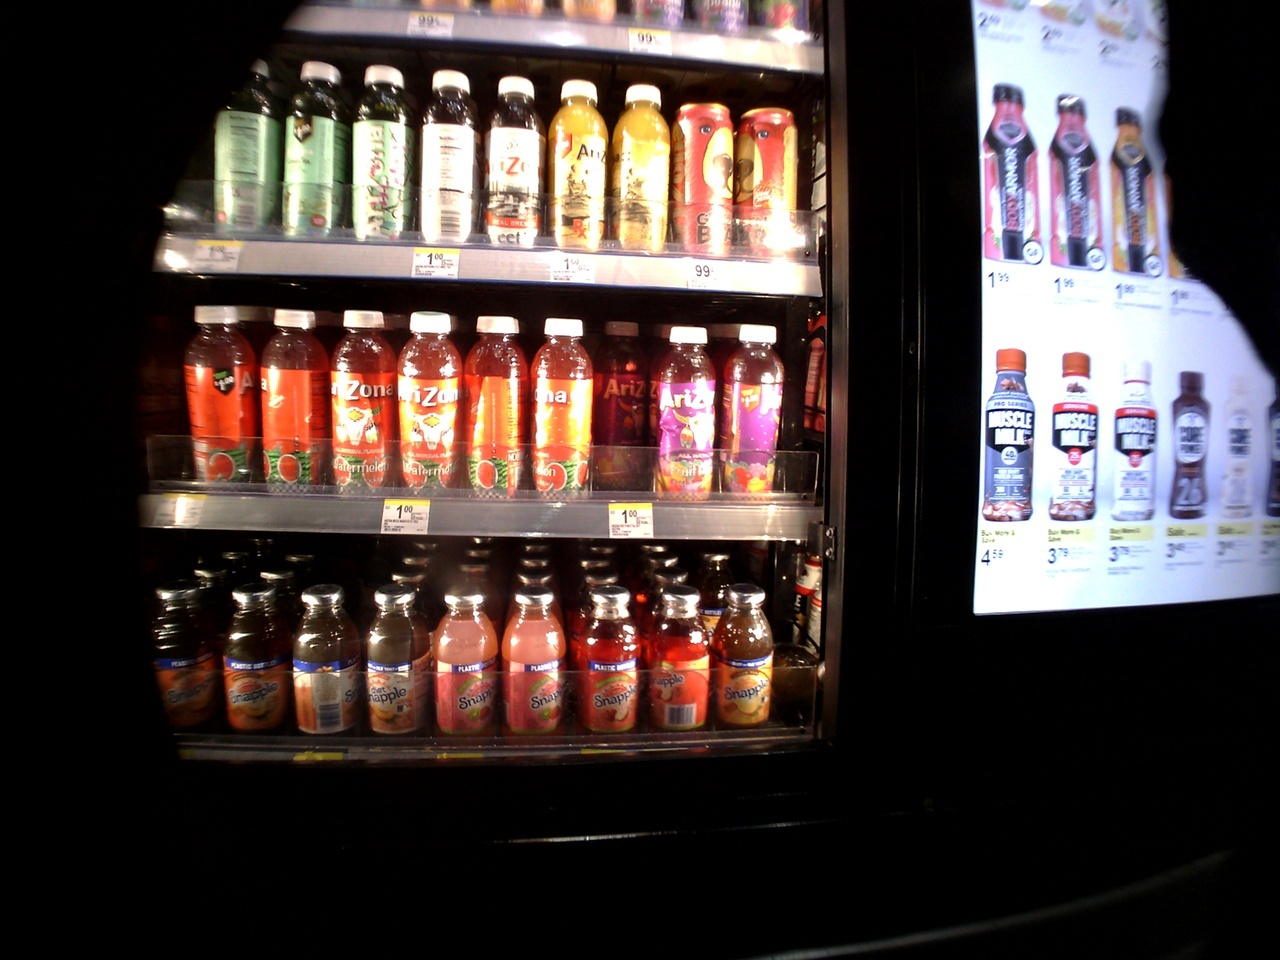shelf: (139, 33, 808, 305), (128, 539, 858, 784), (118, 305, 792, 539)
